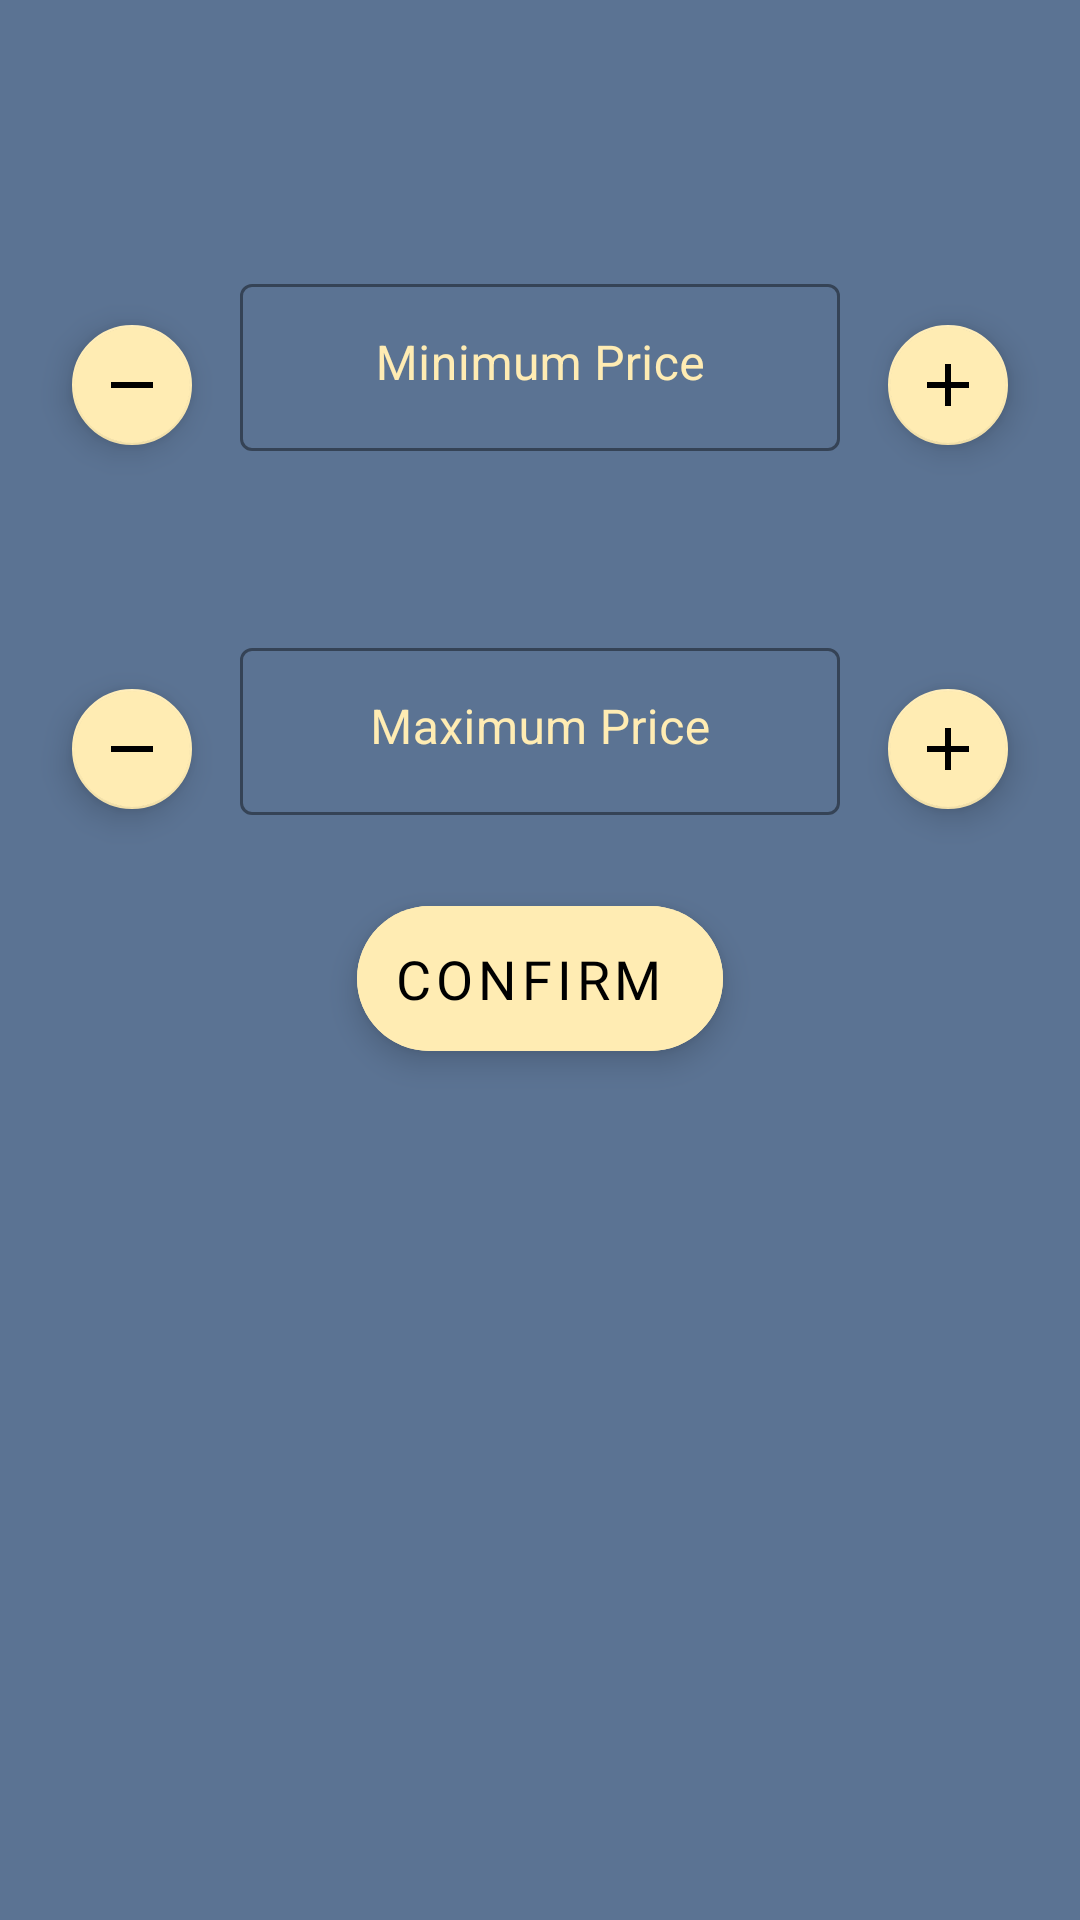

Locate icon controls on the screen. Image size 1080w x 1920h, boxes as (x1, y1, x2, y2).
add: (888, 325, 1008, 445), (888, 689, 1008, 809)
remove: (72, 325, 192, 445), (72, 689, 192, 809)
